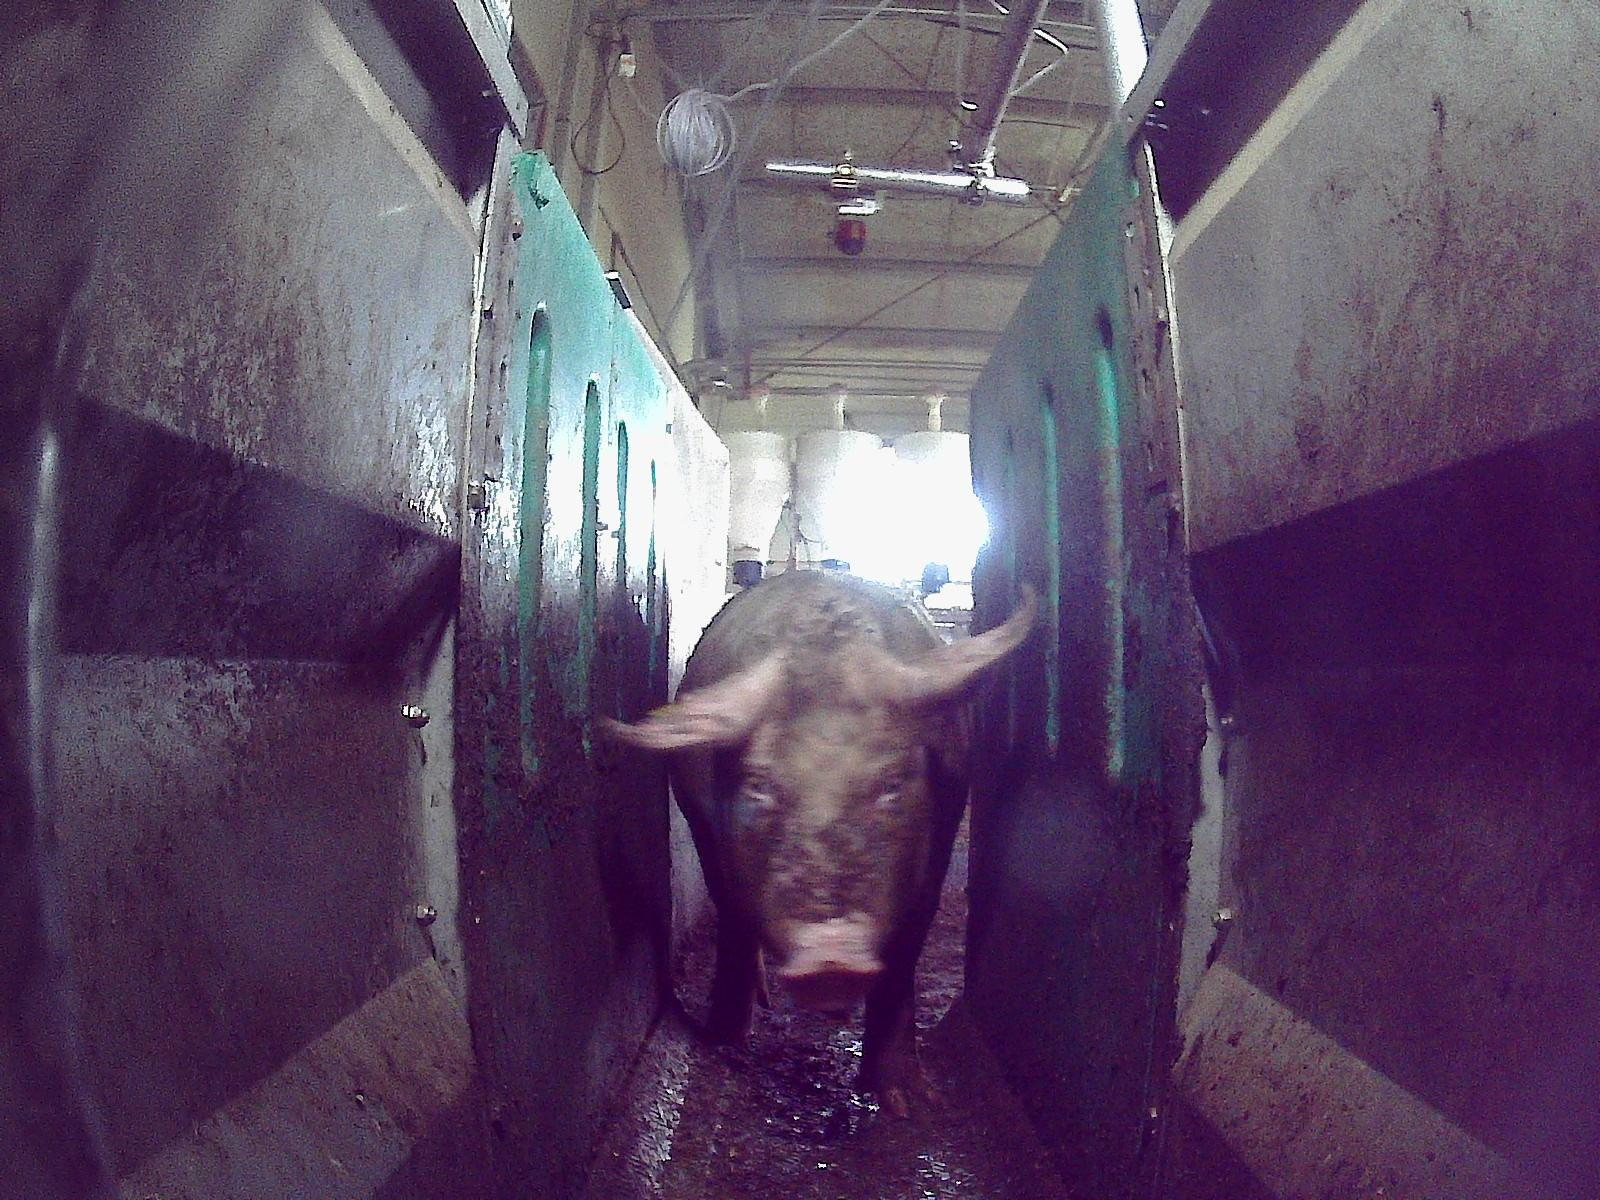Face: (697, 638, 932, 1014)
